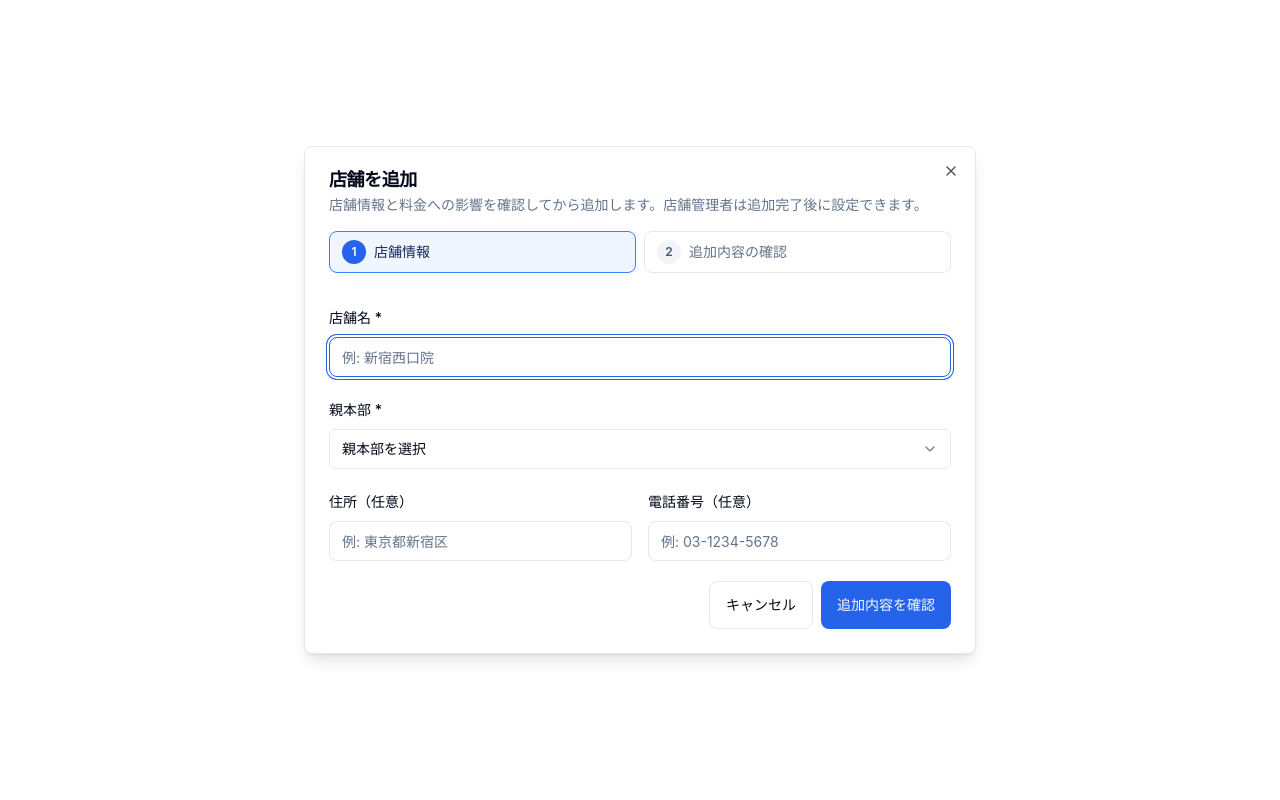
Test: TenantAddDialog › 複数本部がある場合は親本部を必須にする
The width and height of the screenshot is (1280, 800).
Type "新宿西口院" into the field labelled "店舗名 *". click: {"x": 640, "y": 357}
box: [329,337,951,377]
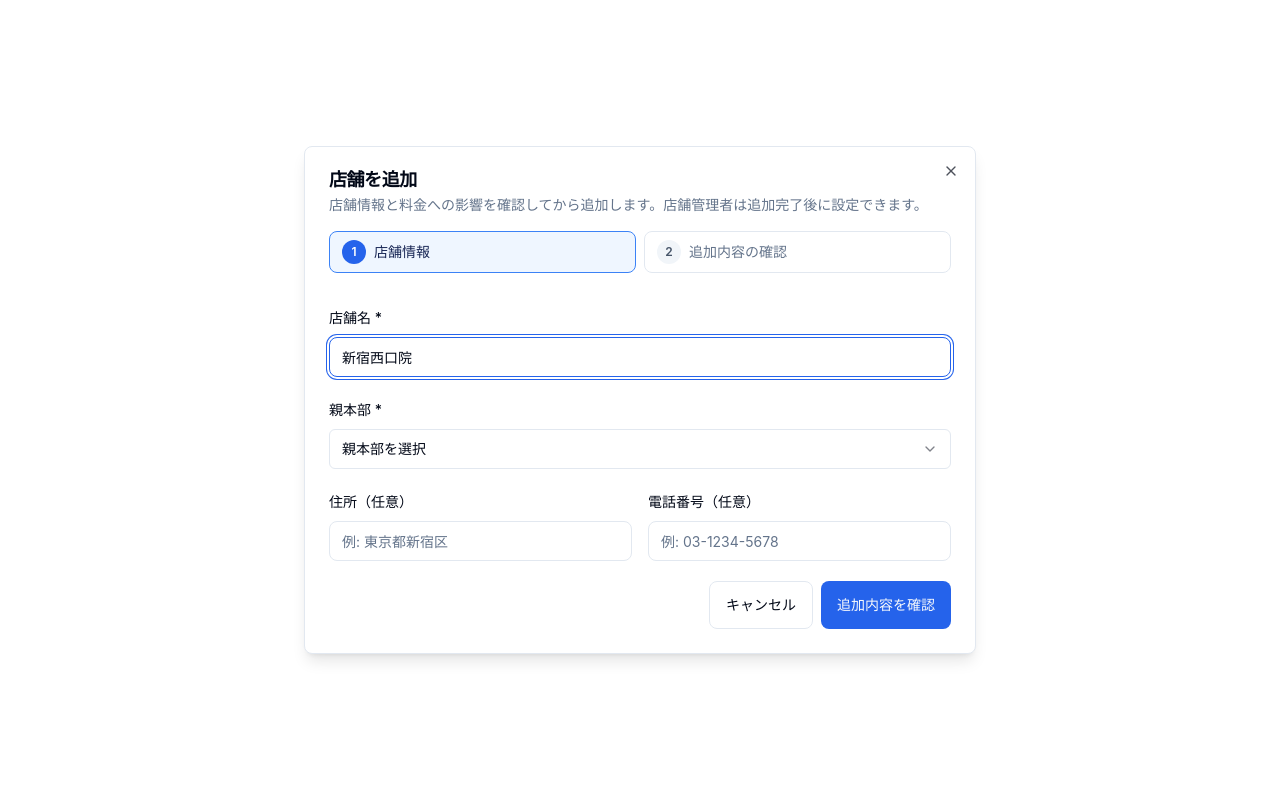
Click the button "追加内容を確認". click: {"x": 886, "y": 605}
box: [821,581,951,629]
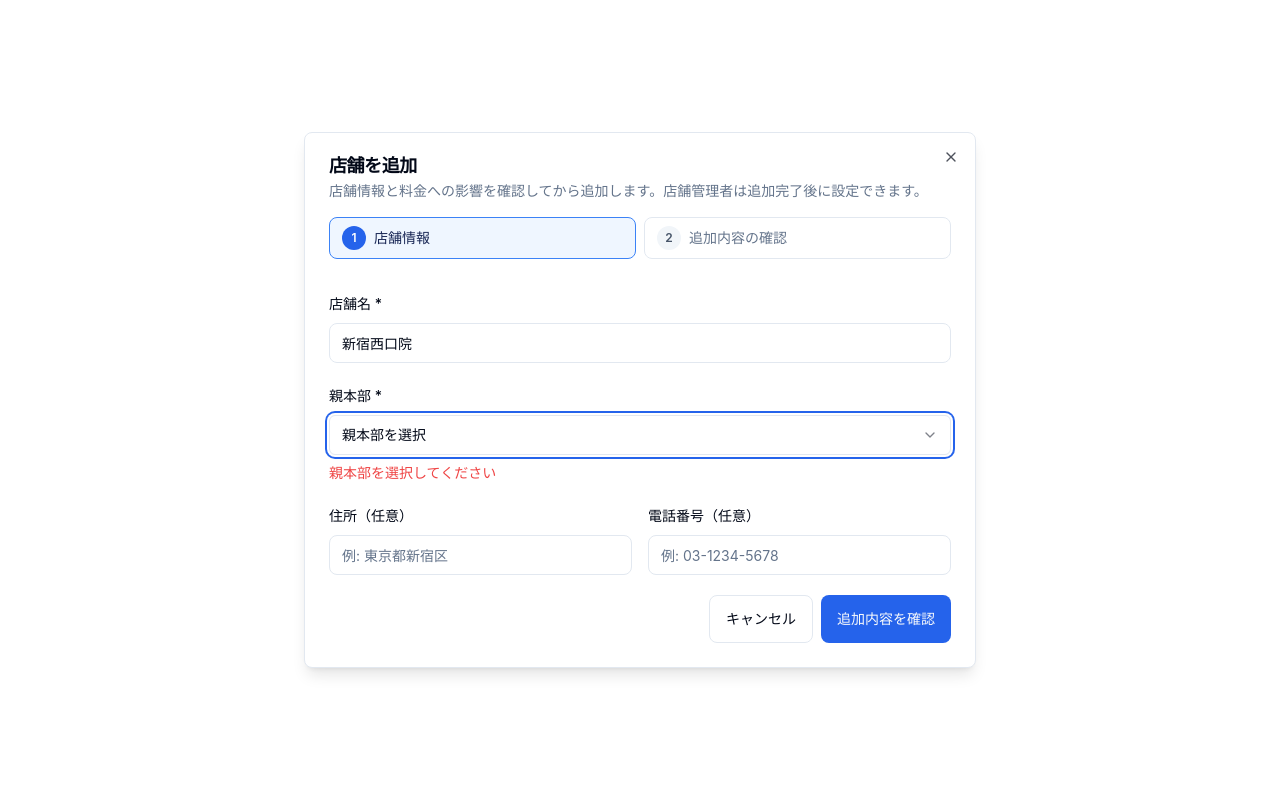
Expected: the text "親本部を選択してください" is shown, [329,464,496,481]
